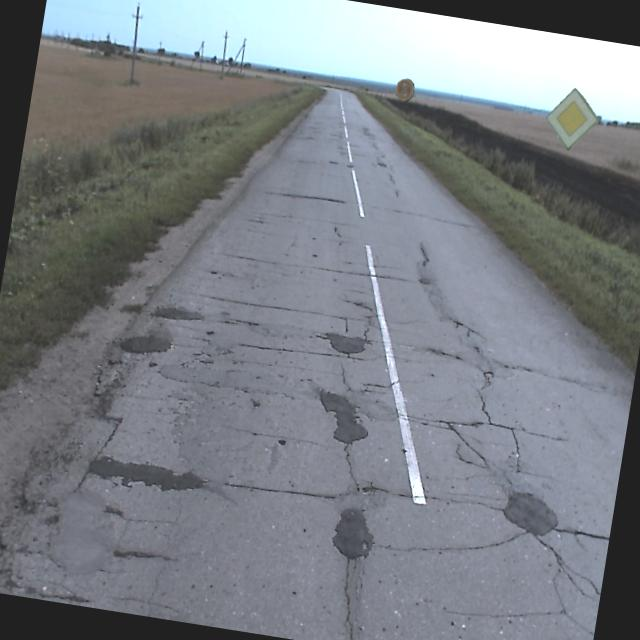road: (0, 89, 634, 640)
